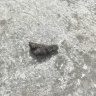Dog: (29, 41, 59, 56)
